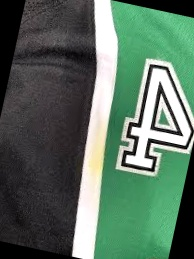mustard: (84, 121, 110, 180)
